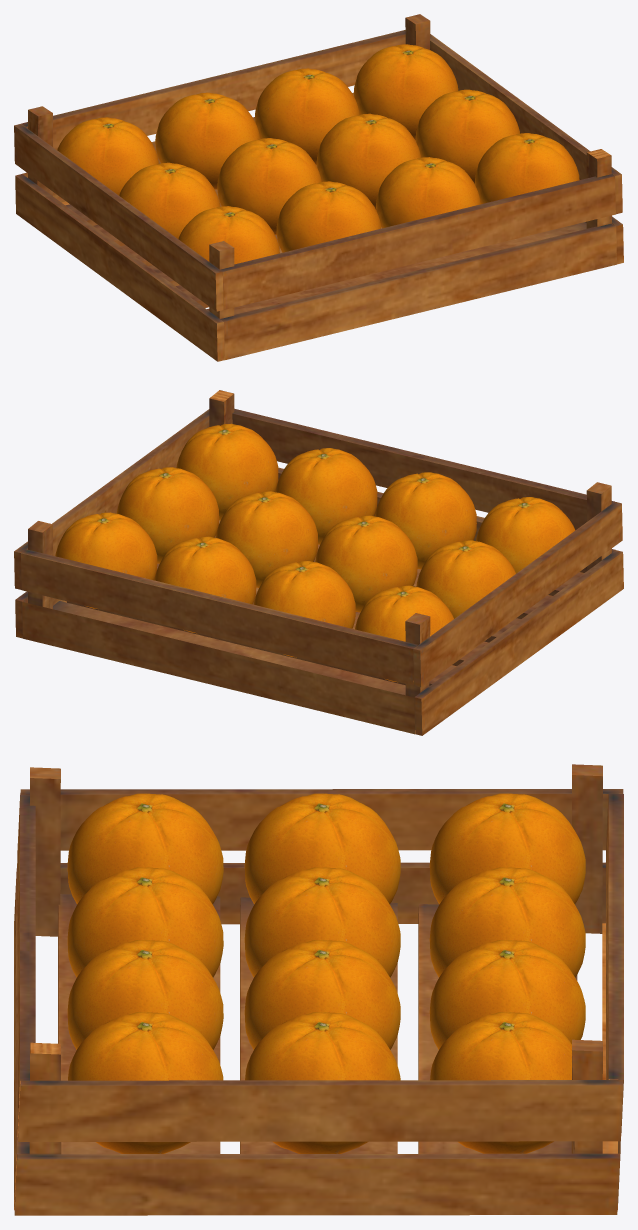
Rendered from Orange.fbx.
3 views of the same model, one above another, from view 1: azimuth 30°, elevation 25°; view 2: azimuth 150°, elevation 25°; view 3: azimuth 270°, elevation 25° (orthographic). The views are drawn at different scales.
Visible parts, largest first — view 1: Rack.006, Object_2.001, Object_2.002, Object_2.003, Object_2.005, Object_2.006, Object_2.007, Object_2.009, Object_2.010, Object_2.011, Object_2, Object_2.004 (+1 smaller); view 2: Rack.006, Object_2.005, Object_2.006, Object_2.007, Object_2.009, Object_2.010, Object_2.011, Object_2.001, Object_2.002, Object_2.003, Object_2.004, Object_2.008 (+1 smaller); view 3: Rack.006, Object_2, Object_2.008, Object_2.004, Object_2.009, Object_2.005, Object_2.001, Object_2.010, Object_2.006, Object_2.002, Object_2.007, Object_2.011 (+1 smaller).
Boxes of the visible parts, x1=… form: Rack.006: x1=14, y1=14, x2=623, y2=361; Object_2.001: x1=155, y1=92, x2=259, y2=189; Object_2.002: x1=255, y1=68, x2=359, y2=165; Object_2.003: x1=353, y1=44, x2=458, y2=140; Object_2.005: x1=217, y1=138, x2=321, y2=234; Object_2.006: x1=316, y1=113, x2=420, y2=209; Object_2.007: x1=415, y1=89, x2=519, y2=183; Object_2.009: x1=276, y1=181, x2=380, y2=252; Object_2.010: x1=376, y1=157, x2=480, y2=228; Object_2.011: x1=475, y1=133, x2=579, y2=204; Object_2: x1=57, y1=117, x2=158, y2=195; Object_2.004: x1=119, y1=162, x2=220, y2=238; Rack.006: x1=14, y1=390, x2=623, y2=735; Object_2.005: x1=315, y1=515, x2=417, y2=612; Object_2.006: x1=215, y1=491, x2=317, y2=587; Object_2.007: x1=116, y1=467, x2=219, y2=563; Object_2.009: x1=374, y1=472, x2=476, y2=569; Object_2.010: x1=275, y1=448, x2=377, y2=544; Object_2.011: x1=176, y1=423, x2=278, y2=520; Object_2.001: x1=253, y1=561, x2=355, y2=657; Object_2.002: x1=154, y1=536, x2=256, y2=633; Object_2.003: x1=55, y1=512, x2=157, y2=609; Object_2.004: x1=416, y1=540, x2=515, y2=618; Object_2.008: x1=476, y1=497, x2=575, y2=573; Rack.006: x1=14, y1=764, x2=623, y2=1215; Object_2: x1=429, y1=793, x2=585, y2=904; Object_2.008: x1=67, y1=793, x2=223, y2=904; Object_2.004: x1=244, y1=793, x2=400, y2=904; Object_2.009: x1=67, y1=867, x2=223, y2=977; Object_2.005: x1=244, y1=867, x2=400, y2=977; Object_2.001: x1=429, y1=867, x2=585, y2=977; Object_2.010: x1=67, y1=940, x2=223, y2=1049; Object_2.006: x1=244, y1=940, x2=400, y2=1049; Object_2.002: x1=429, y1=940, x2=585, y2=1049; Object_2.007: x1=245, y1=1012, x2=400, y2=1153; Object_2.011: x1=68, y1=1012, x2=223, y2=1153.
Size of the model in its own units: 0.6471 by 0.1649 by 0.563.
